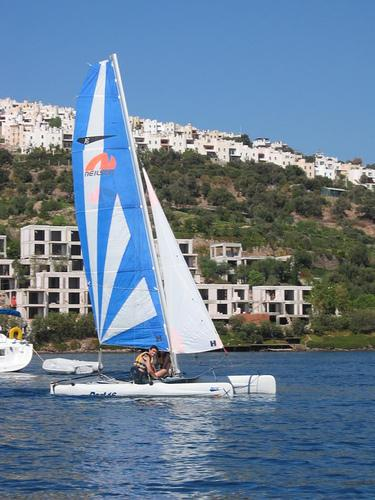Ship: (50, 53, 278, 402)
